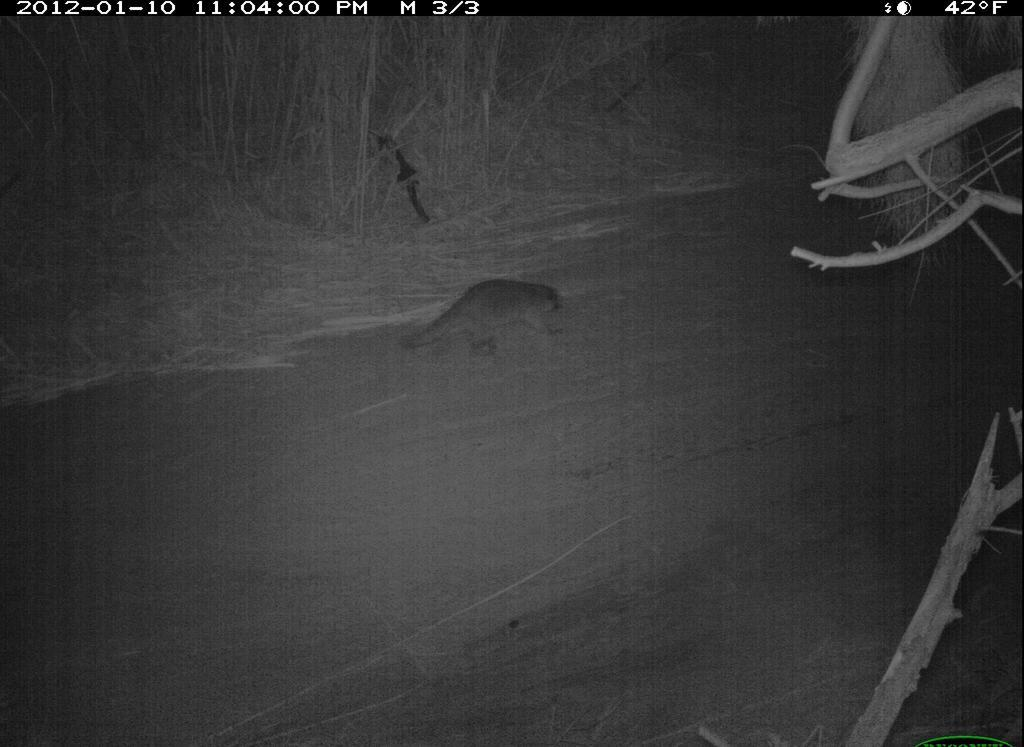raccoon: (399, 277, 577, 376)
